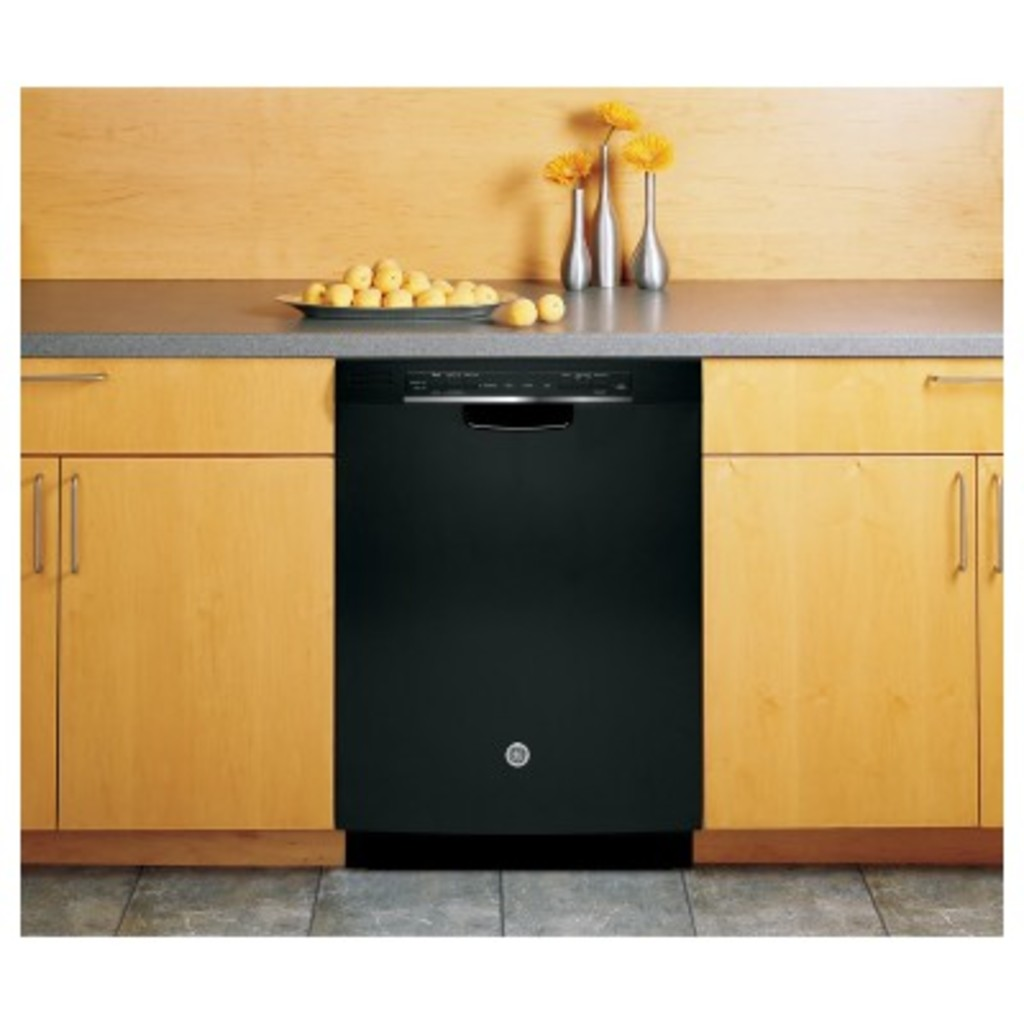cabinet door: (63, 462, 329, 828), (711, 458, 975, 818), (24, 356, 330, 454), (705, 356, 1001, 454), (19, 454, 59, 818), (974, 465, 1009, 816)
handle: (921, 358, 1014, 405), (950, 469, 975, 585), (63, 472, 89, 576), (986, 469, 1010, 580), (24, 366, 107, 395), (29, 475, 50, 580)
